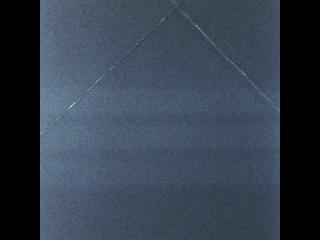crack: (40, 0, 186, 138), (169, 0, 281, 112)
